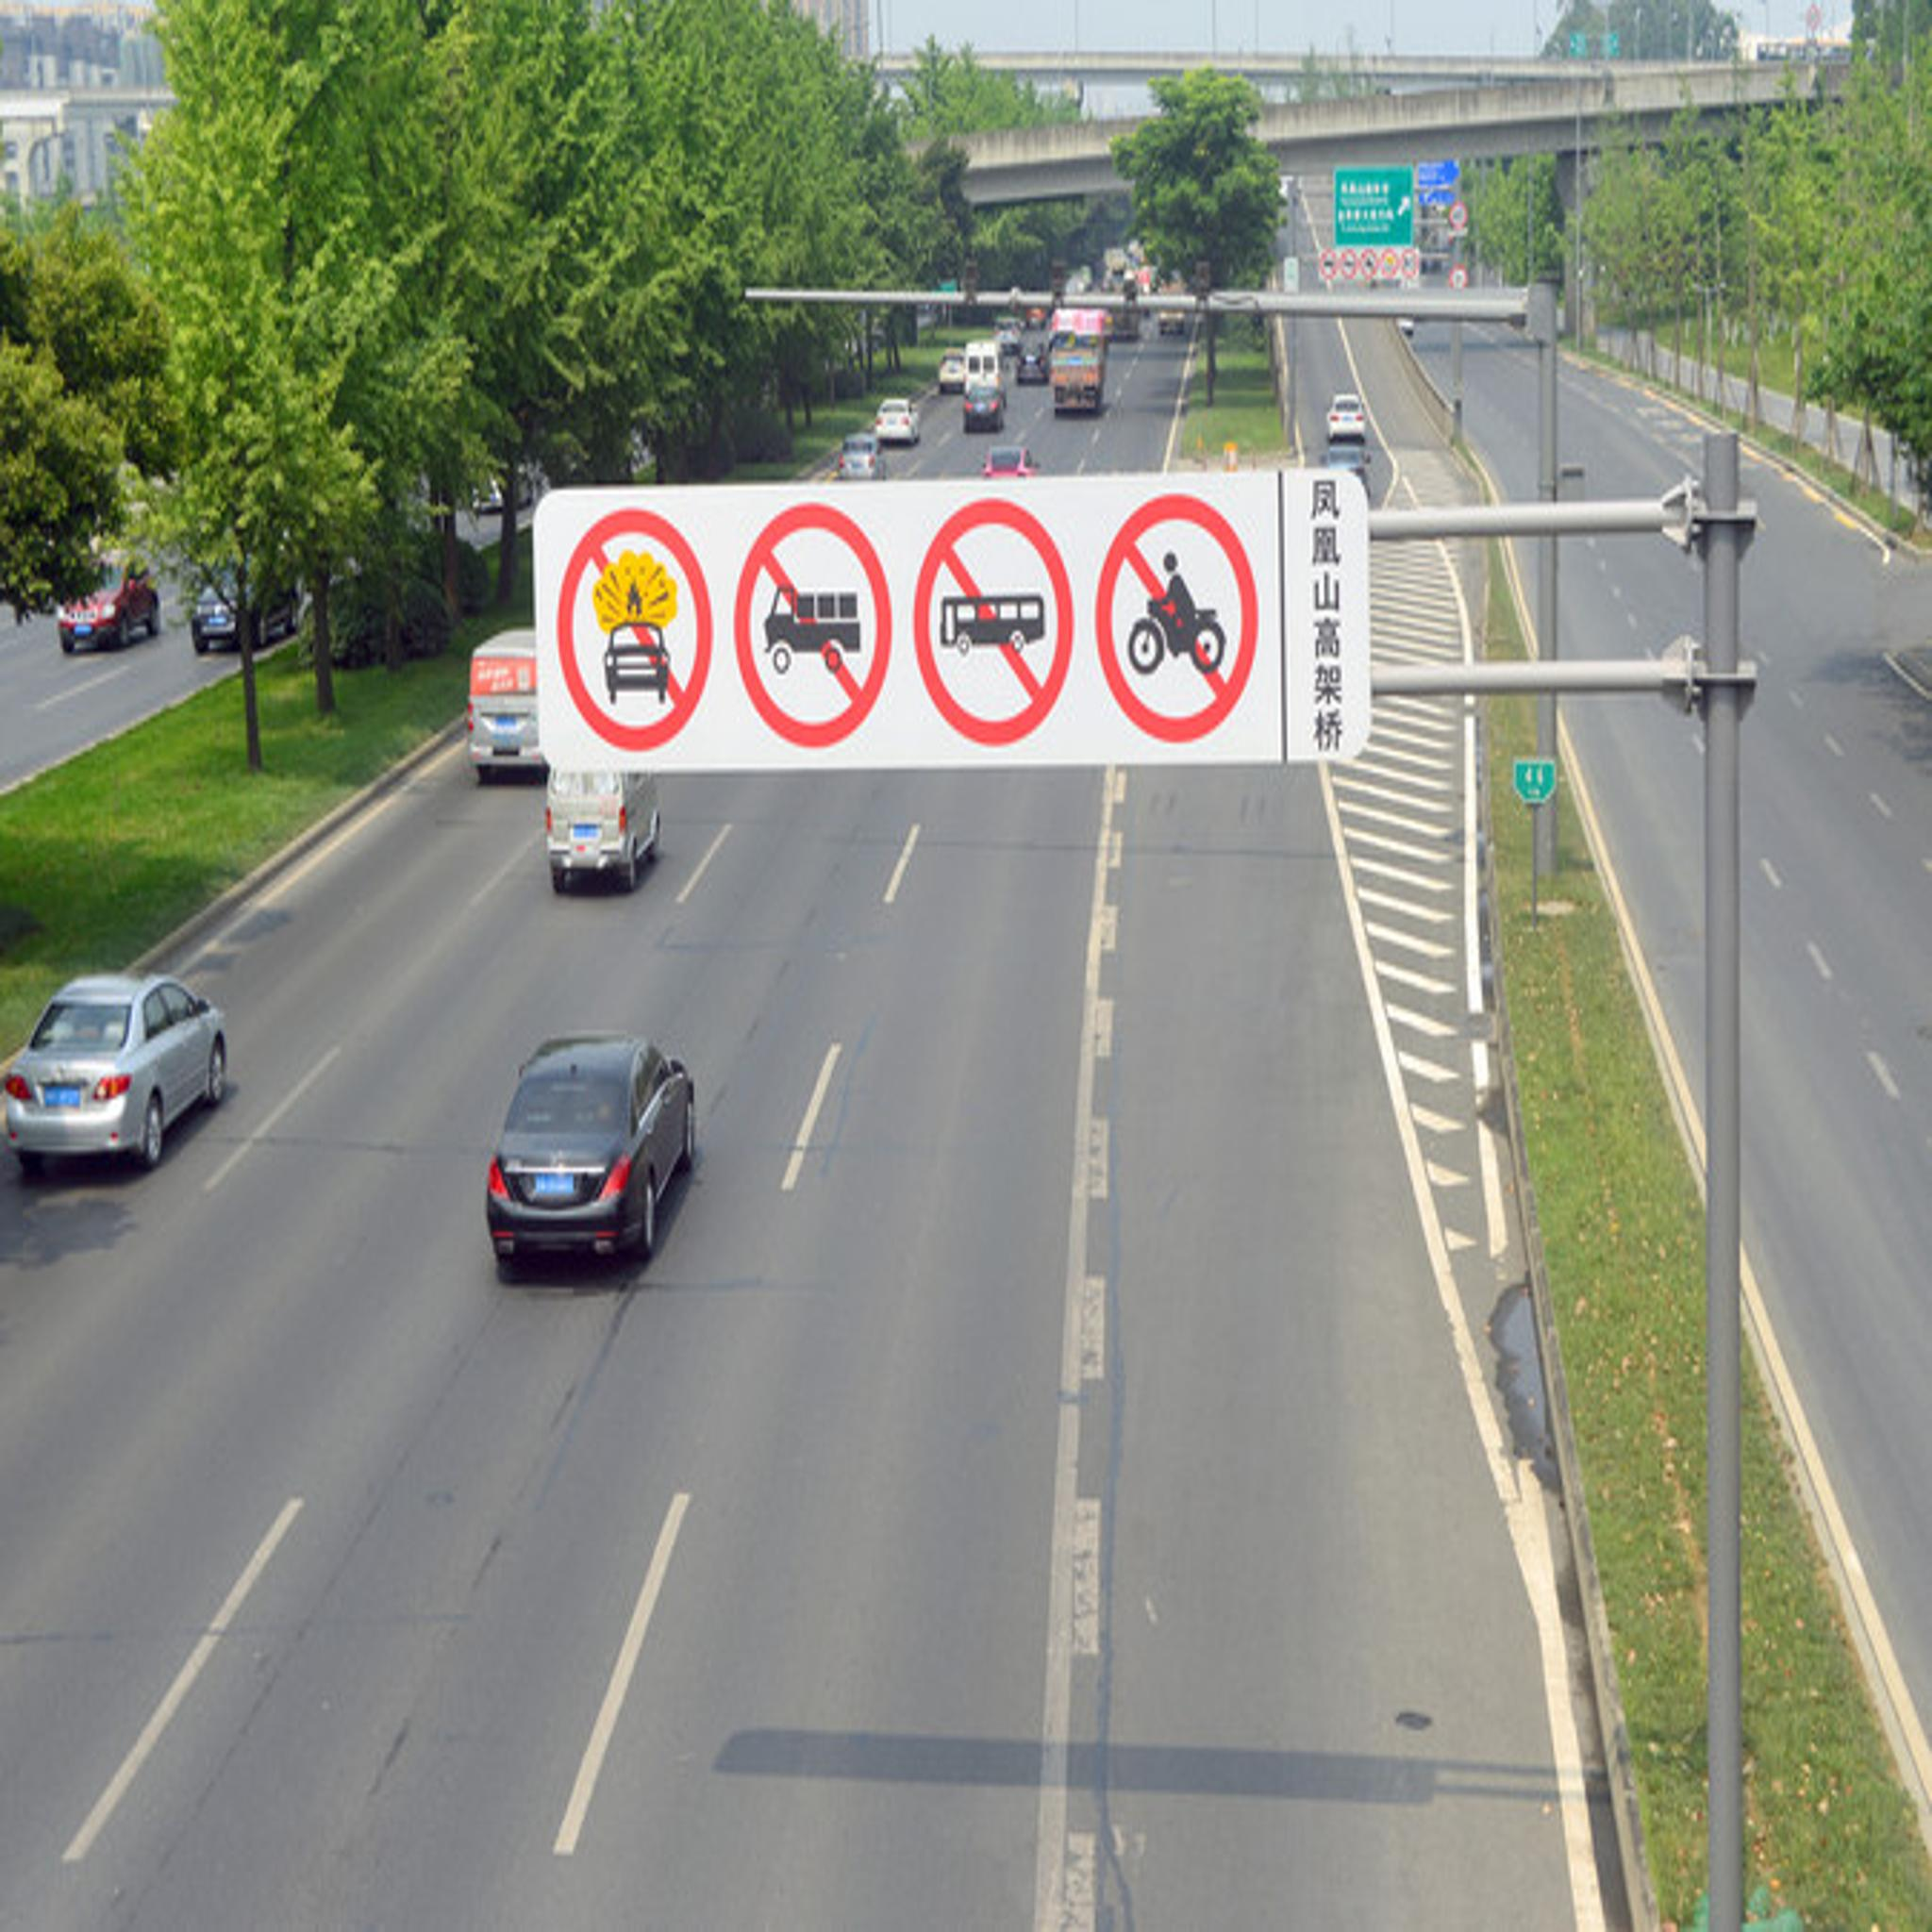p12: (1095, 492, 1258, 745)
p26: (732, 502, 892, 748)
p27: (559, 508, 715, 755)
